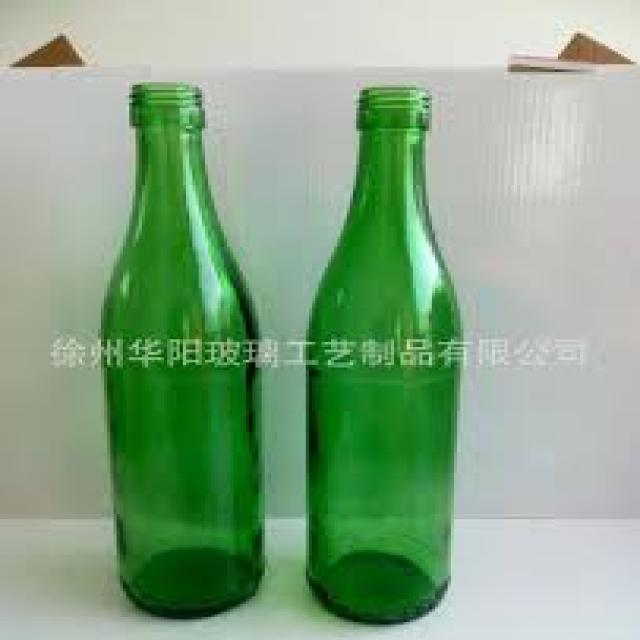cardboard: (0, 57, 637, 517), (3, 33, 85, 62), (552, 36, 634, 62)
glass: (95, 82, 259, 617), (300, 85, 457, 625)
